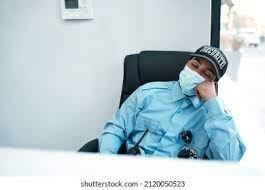sleep: (142, 42, 244, 154)
